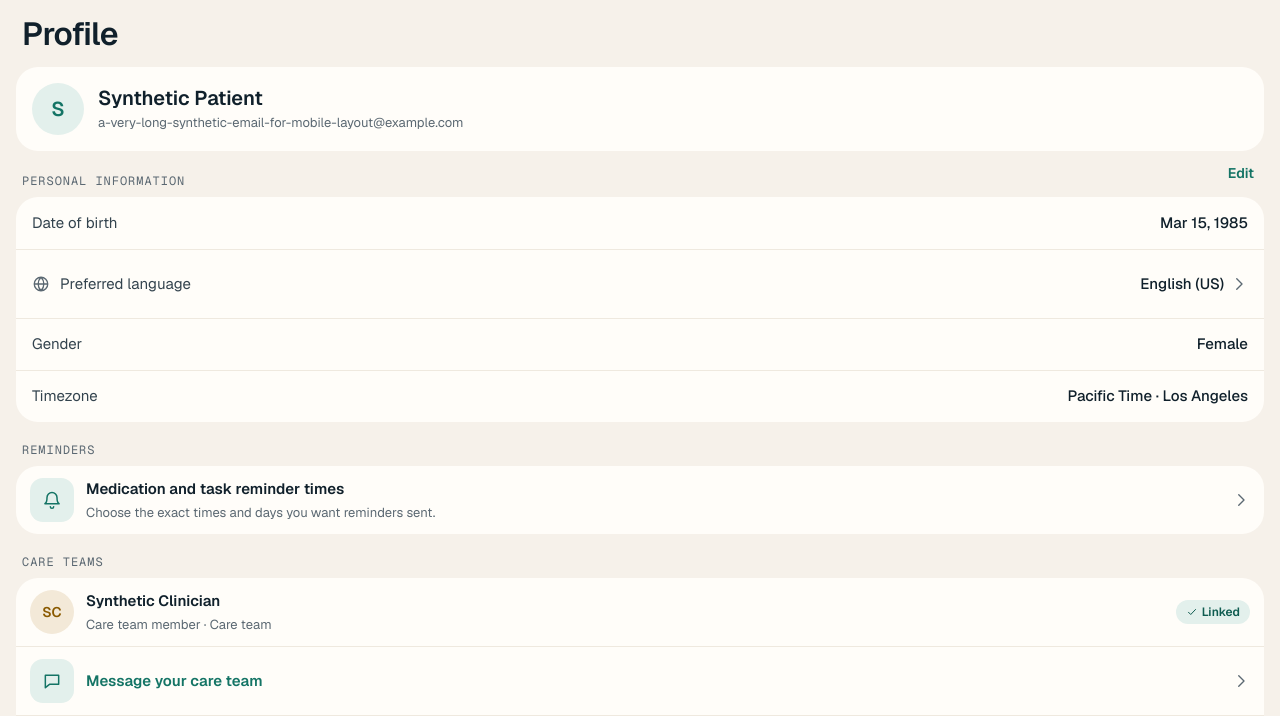
Test case: Patient profile page › keeps compact settings actions and helpers in en-US
Expected: the link with aria-label "Manage reminders" shows "Choose the exact times and days", [16,466,1264,534]
Click the button with aria-label "Edit profile".
click(1241, 173)  # box [1218,151,1264,195]
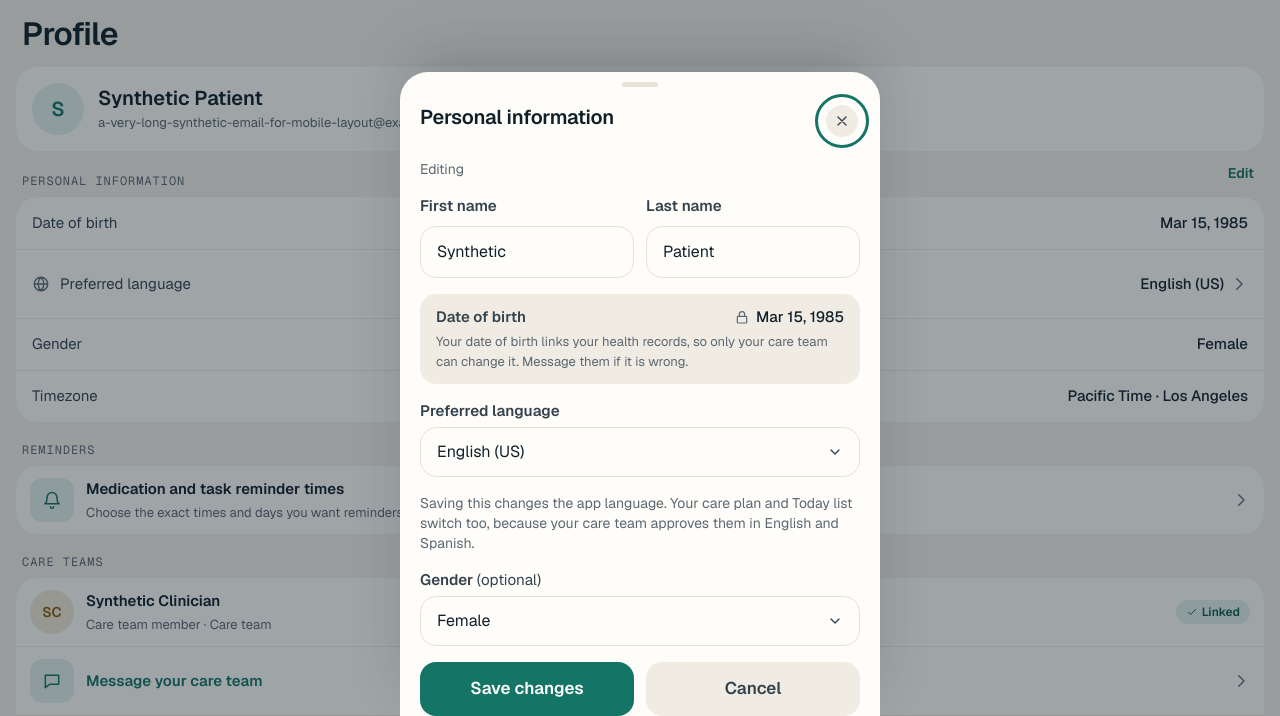
Expected: the number of dropdowns is 2, [420,427,860,477]; [420,596,860,646]
